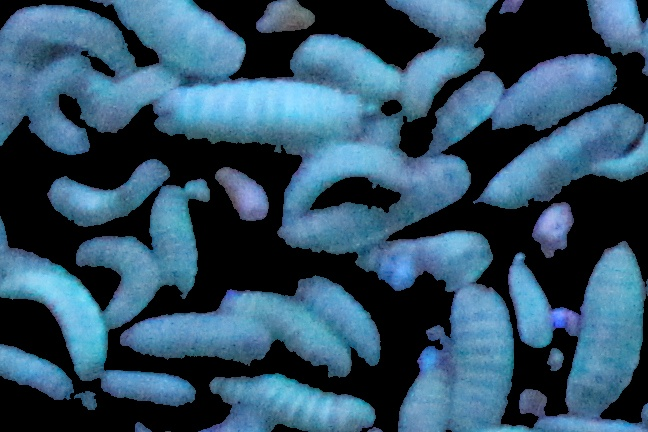larvae: (282, 152, 469, 247), (157, 76, 374, 149), (484, 105, 640, 205), (562, 242, 648, 414), (1, 265, 106, 378), (229, 290, 350, 375), (112, 1, 245, 76), (1, 3, 134, 71), (450, 287, 512, 432), (356, 228, 501, 289), (283, 150, 411, 218), (496, 56, 615, 128), (213, 376, 375, 428), (47, 160, 169, 224), (295, 276, 381, 366), (121, 311, 270, 361), (75, 235, 159, 320), (291, 34, 397, 97), (27, 55, 92, 155), (400, 43, 482, 115), (148, 183, 198, 294), (89, 64, 173, 130), (433, 72, 502, 147), (1, 343, 77, 401), (376, 1, 489, 40), (508, 257, 556, 347), (399, 361, 452, 432), (592, 121, 648, 183), (102, 369, 197, 405)
